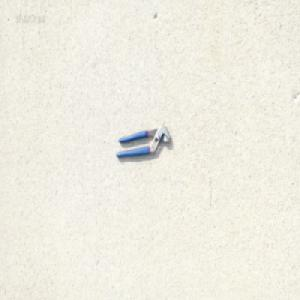Pliers: (113, 123, 170, 159)
